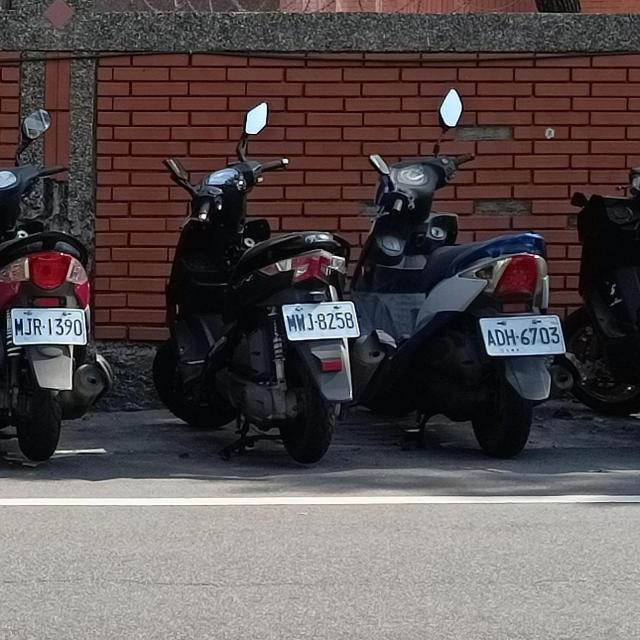W: (474, 311, 567, 359), (5, 304, 91, 348), (278, 298, 361, 342)
